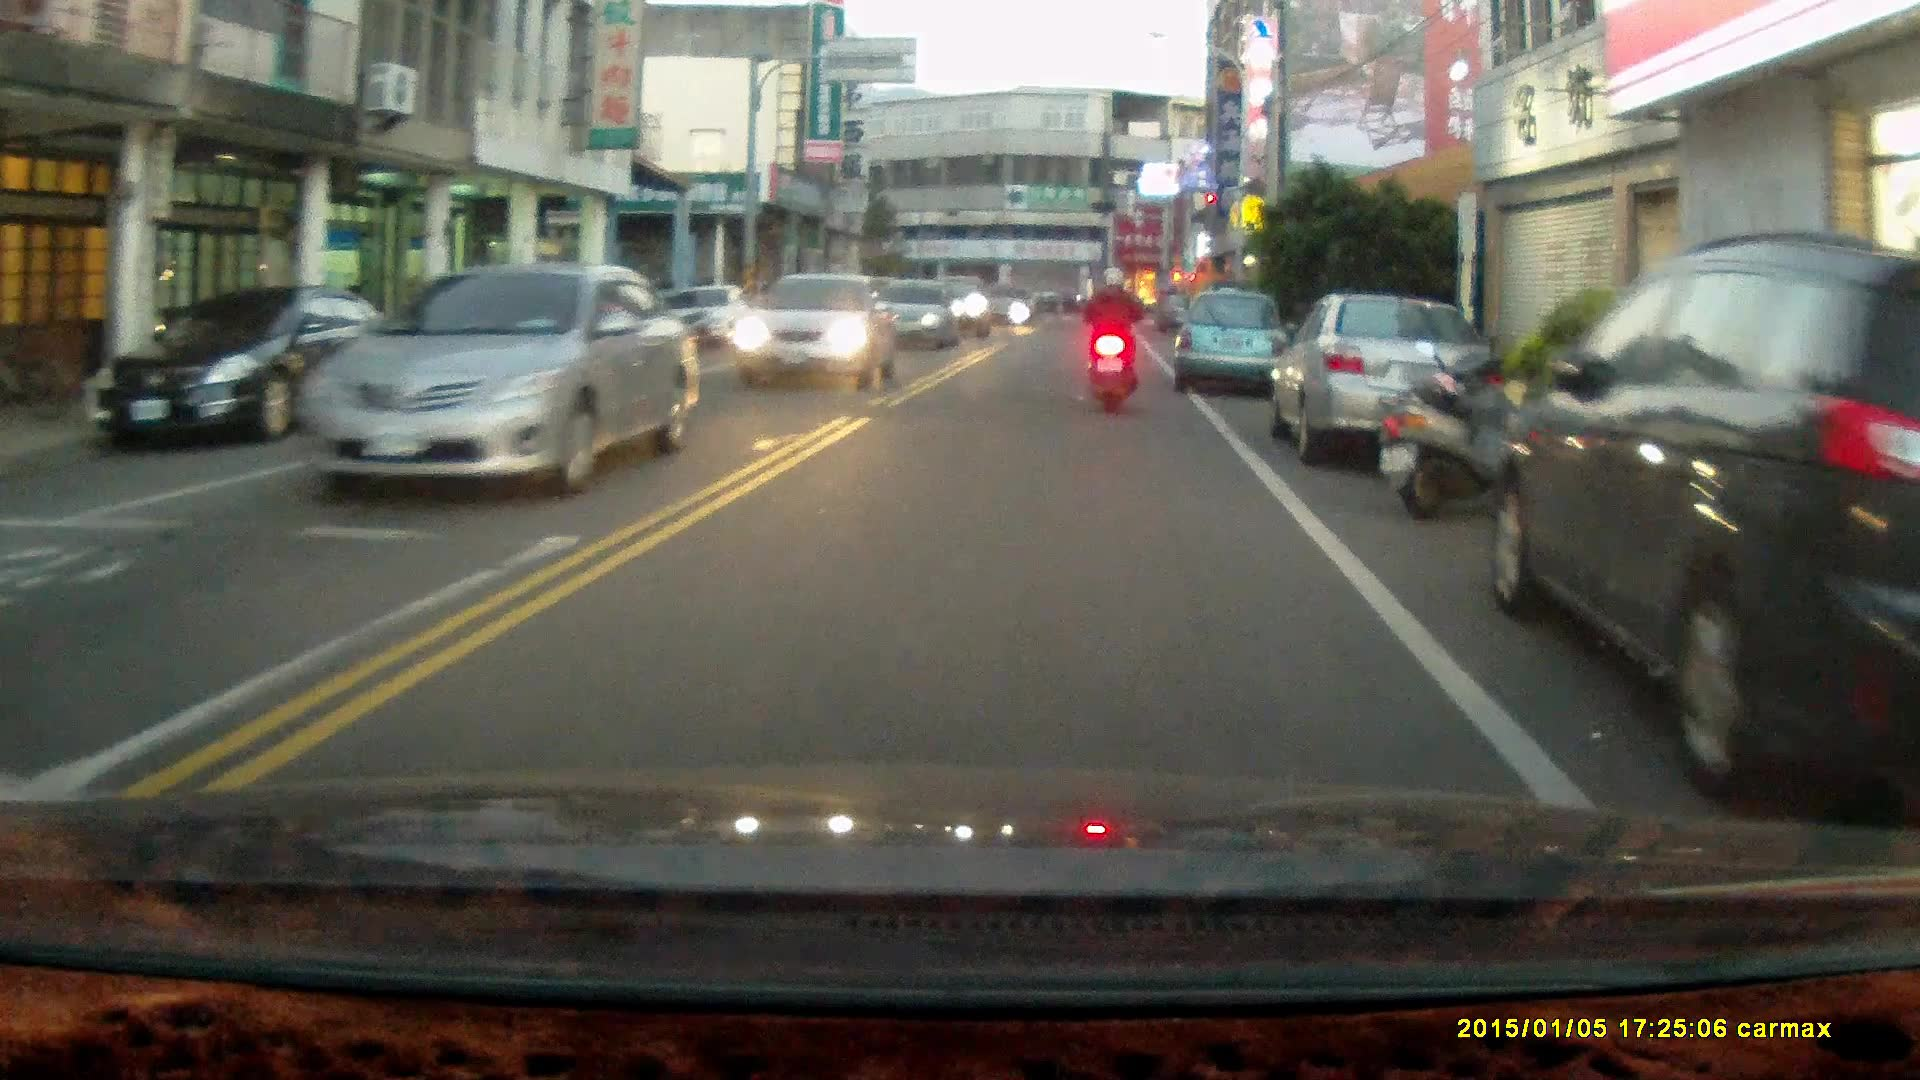rider: (1082, 264, 1143, 417)
vehicle: (1489, 229, 1920, 789), (289, 262, 705, 495), (79, 285, 397, 453), (1278, 296, 1490, 469), (732, 277, 900, 394), (1172, 290, 1296, 401), (869, 284, 962, 355)
